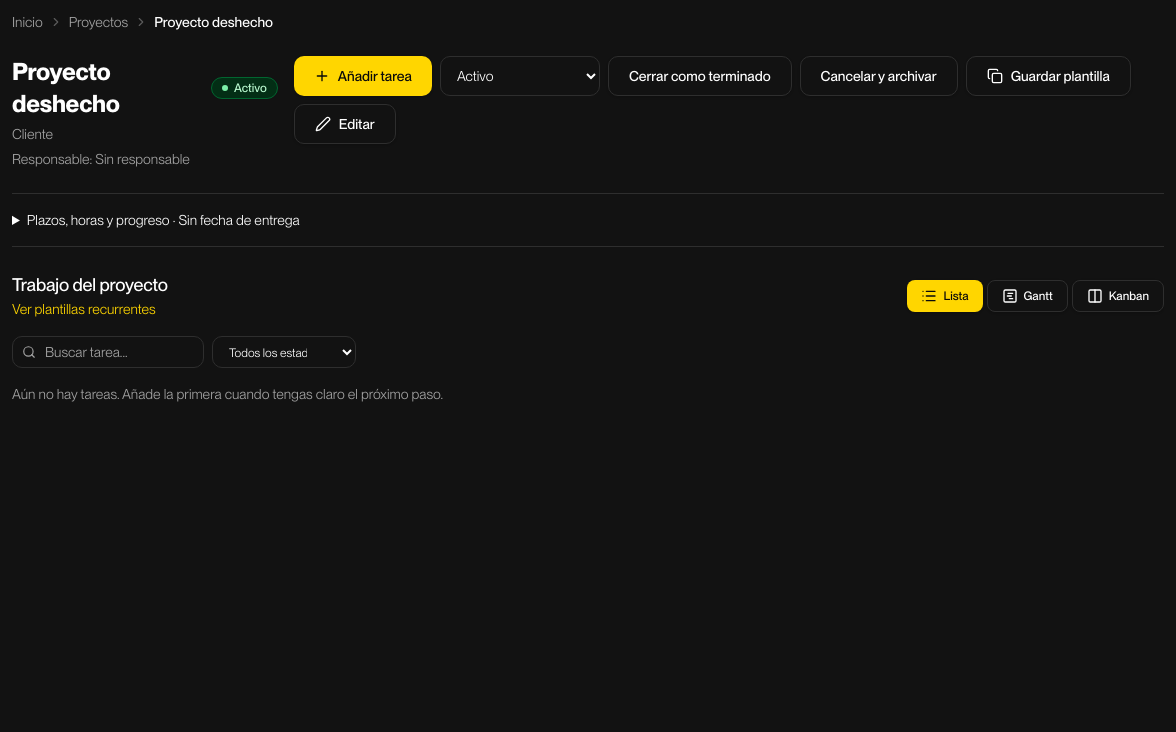
Test case: project progress recovery › distinguishes failure from empty progress and retries
This screenshot has width=1176, height=732.
Expected: the heading "Proyecto deshecho" is shown, [12,57,120,118]
Click the heading "Plazos, horas y progreso · Sin fecha de entrega": (163, 220) [27,212,300,228]
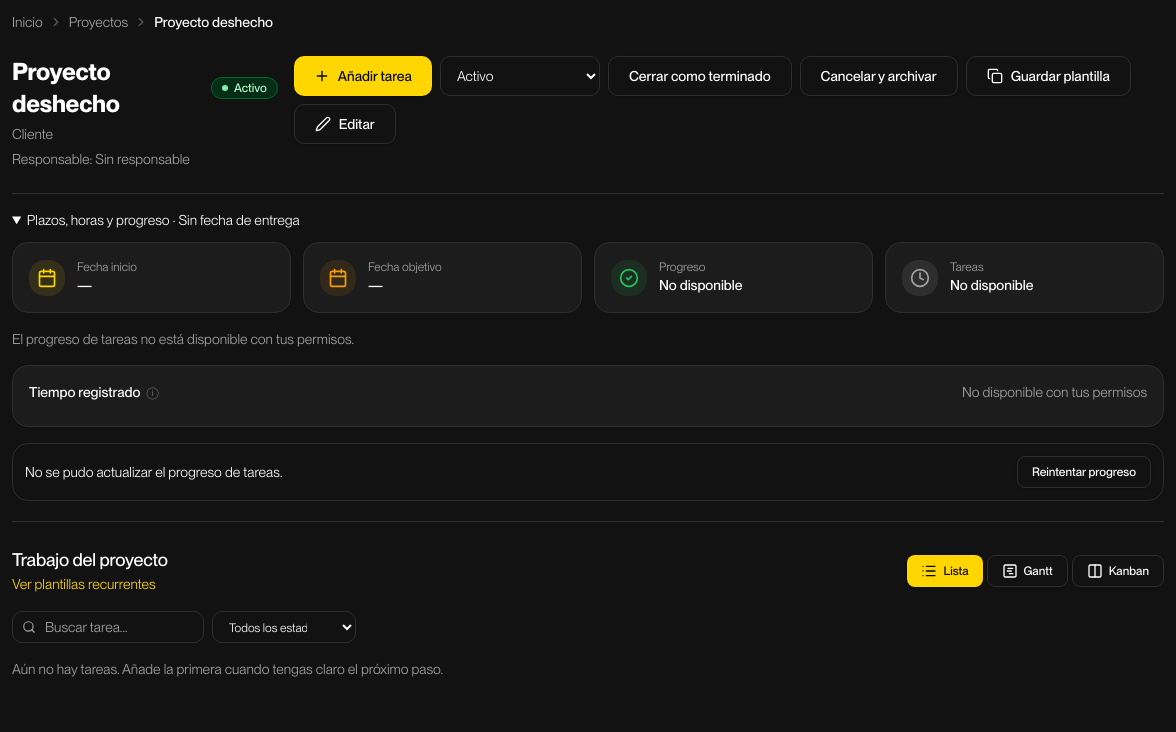
Expected: the text "Añade tareas al proyecto para ver el burndown." is not shown
Now the message shows "No se pudo actualizar el progreso de tareas", box [25,464,282,480]
Click the button "Reintentar progreso": (1084, 472) [1017,456,1151,488]
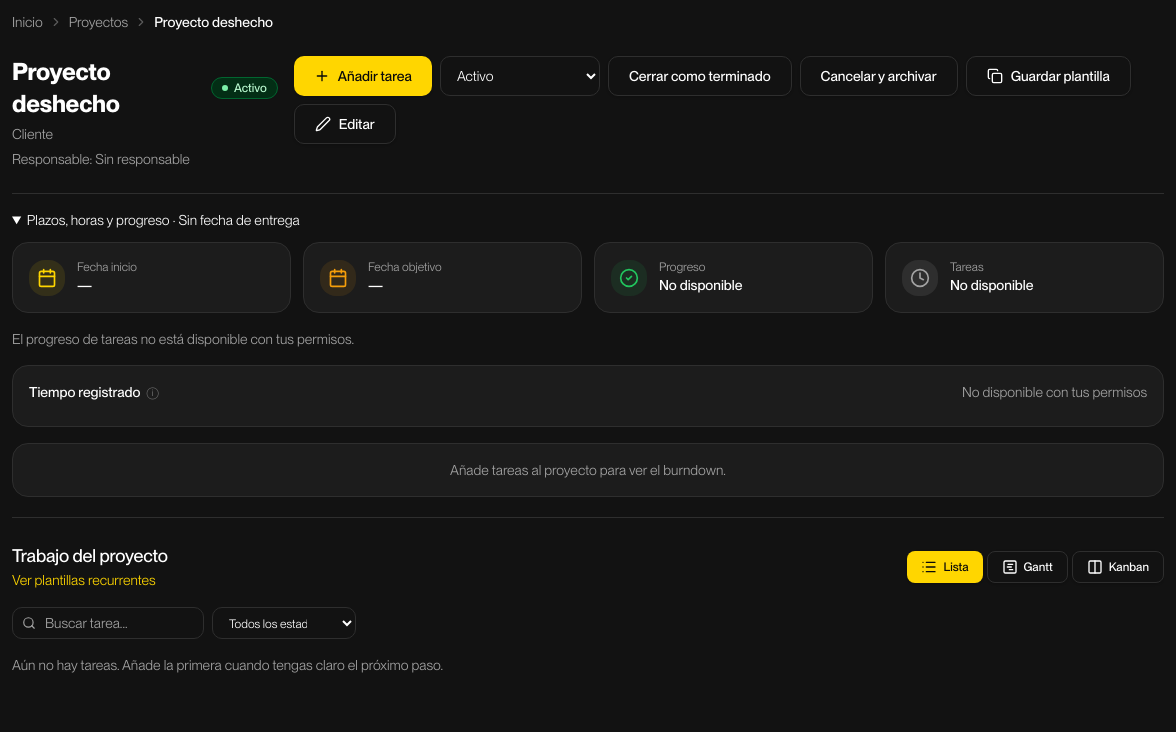
Now the text "Añade tareas al proyecto para ver el burndown." is shown, box [450,462,726,478]
